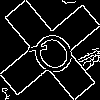Q: (25, 25, 86, 88)
